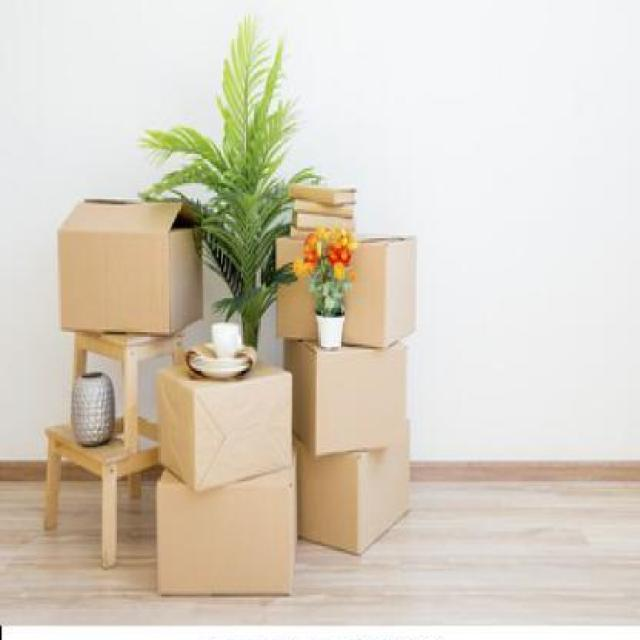box: (54, 191, 203, 350), (147, 466, 301, 607), (153, 354, 298, 495), (291, 432, 437, 563), (272, 230, 417, 350), (291, 341, 407, 459)
